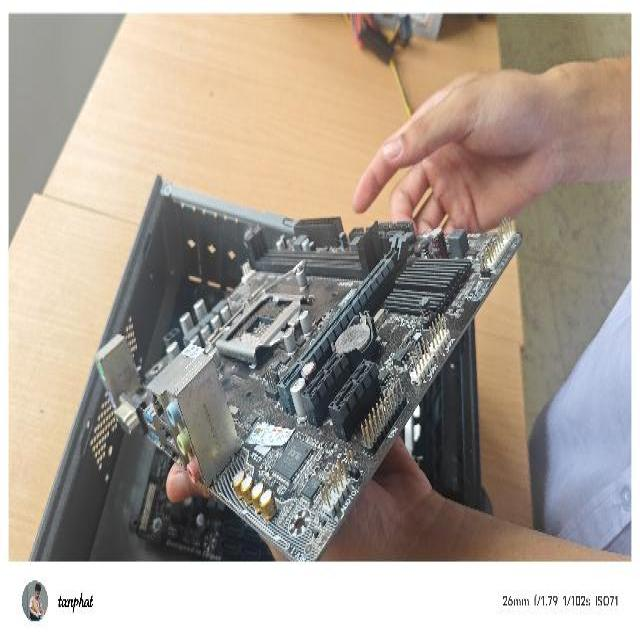Mainboard: (84, 212, 524, 566)
